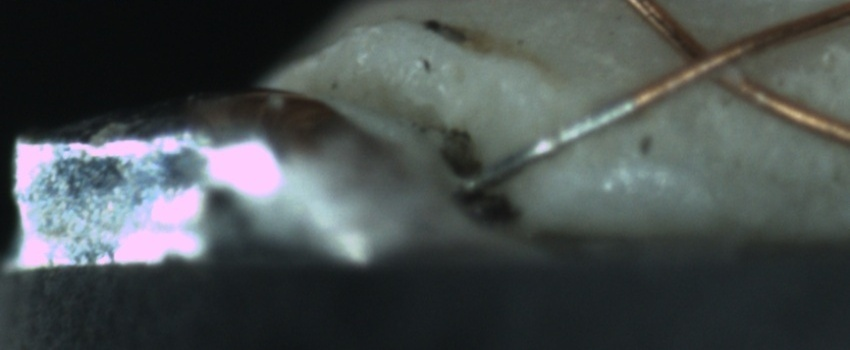CL: (659, 26, 761, 96)
TB: (527, 128, 563, 160)
TS: (458, 98, 635, 199)
TTCW: (451, 66, 676, 195)
